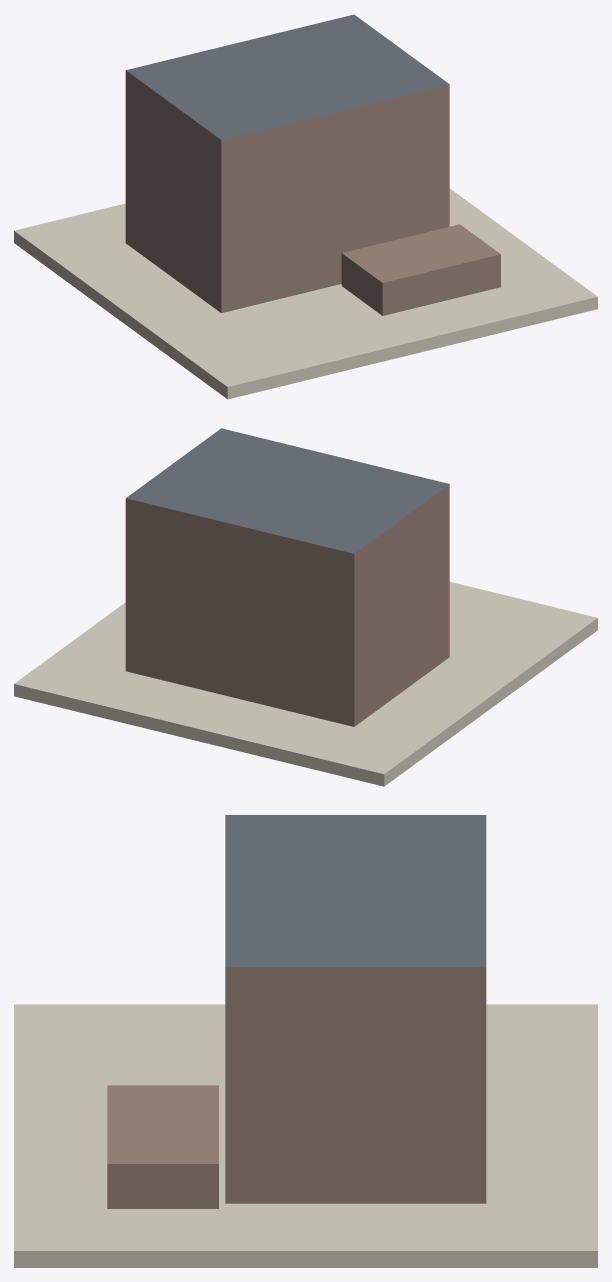
The picture shows the model from 3 angles, top to bottom: view 1: azimuth 30°, elevation 25°; view 2: azimuth 150°, elevation 25°; view 3: azimuth 270°, elevation 25°; orthographic projection. The views are drawn at different scales.
Parts seen in each view (by area): view 1: b14_v2_lod2; view 2: b14_v2_lod2; view 3: b14_v2_lod2.
Part boxes in pixels (x1,y1,x2,y2): b14_v2_lod2: (14, 14, 597, 399); b14_v2_lod2: (14, 428, 597, 786); b14_v2_lod2: (14, 815, 597, 1267).
Size of the model in its own units: 0.94 by 0.45 by 0.94.
